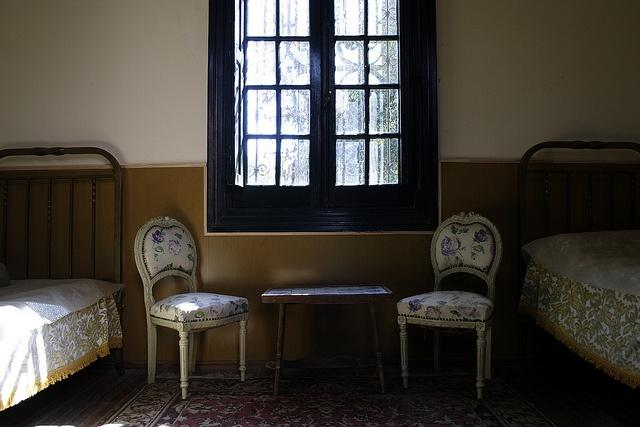Kursi: (133, 214, 249, 400), (395, 209, 501, 398)
Meja: (259, 283, 394, 326)
